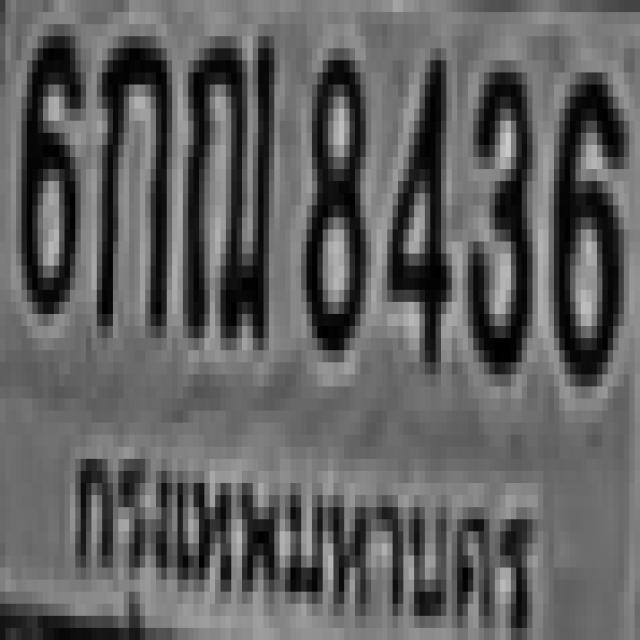10GorGai: (91, 24, 167, 326)
21ChorChoe: (180, 24, 272, 338)
3: (463, 49, 527, 362)
4: (382, 36, 446, 362)
6: (548, 61, 618, 374), (16, 24, 81, 302)
8: (302, 36, 361, 338)
Bangkok: (59, 430, 547, 640)
